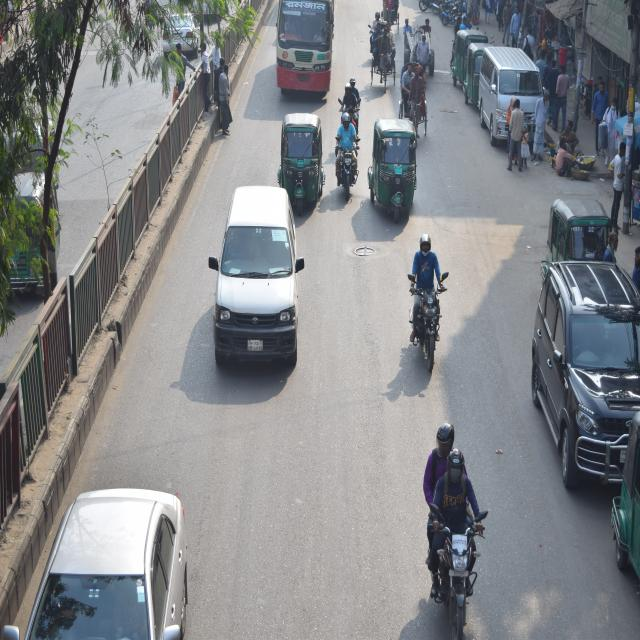bus: (275, 0, 335, 105)
car: (532, 258, 640, 515), (24, 497, 181, 640), (210, 179, 304, 364)
microbus: (470, 44, 564, 173)
motorbike: (414, 422, 499, 640), (413, 226, 452, 368), (337, 115, 362, 203)
